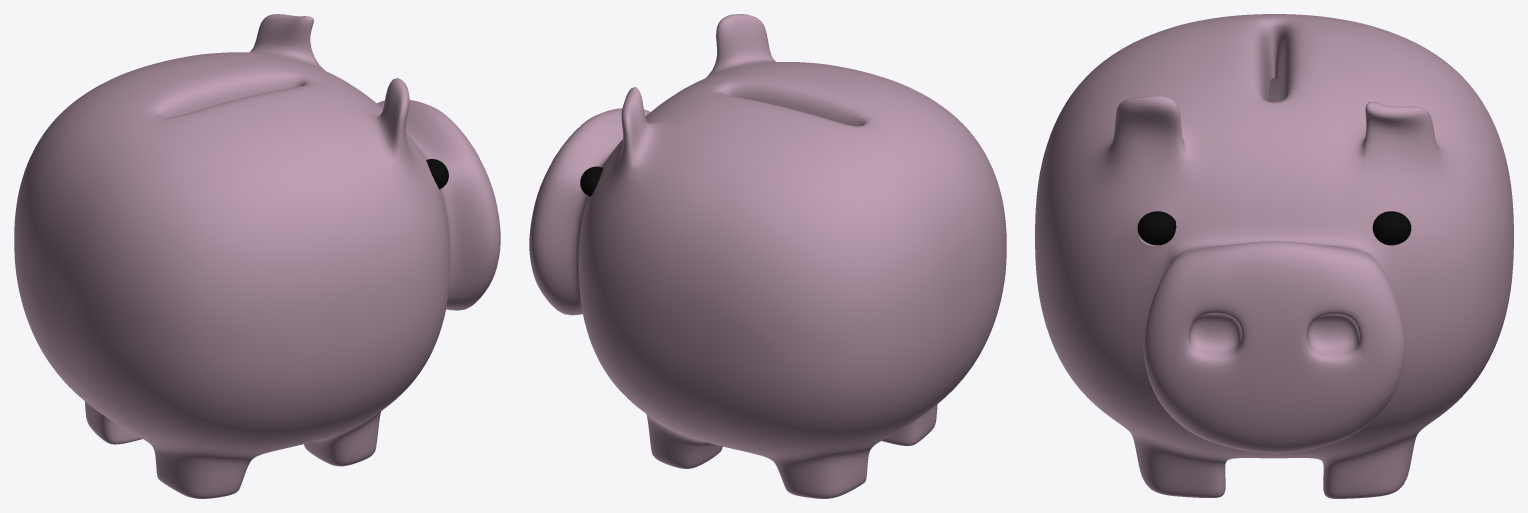
Rendered from Piggy.fbx.
The picture shows the model from 3 angles, left to right: view 1: azimuth 30°, elevation 25°; view 2: azimuth 150°, elevation 25°; view 3: azimuth 270°, elevation 25°; orthographic projection. The views are drawn at different scales.
Parts seen in each view (by area): view 1: pig; view 2: pig; view 3: pig.
Boxes of the visible parts, box(x1,y1,x2,y2) form: pig: box(14, 14, 500, 498); pig: box(529, 14, 1006, 498); pig: box(1035, 14, 1513, 498).
Size of the model in its own units: 1278 by 1123 by 1172.
